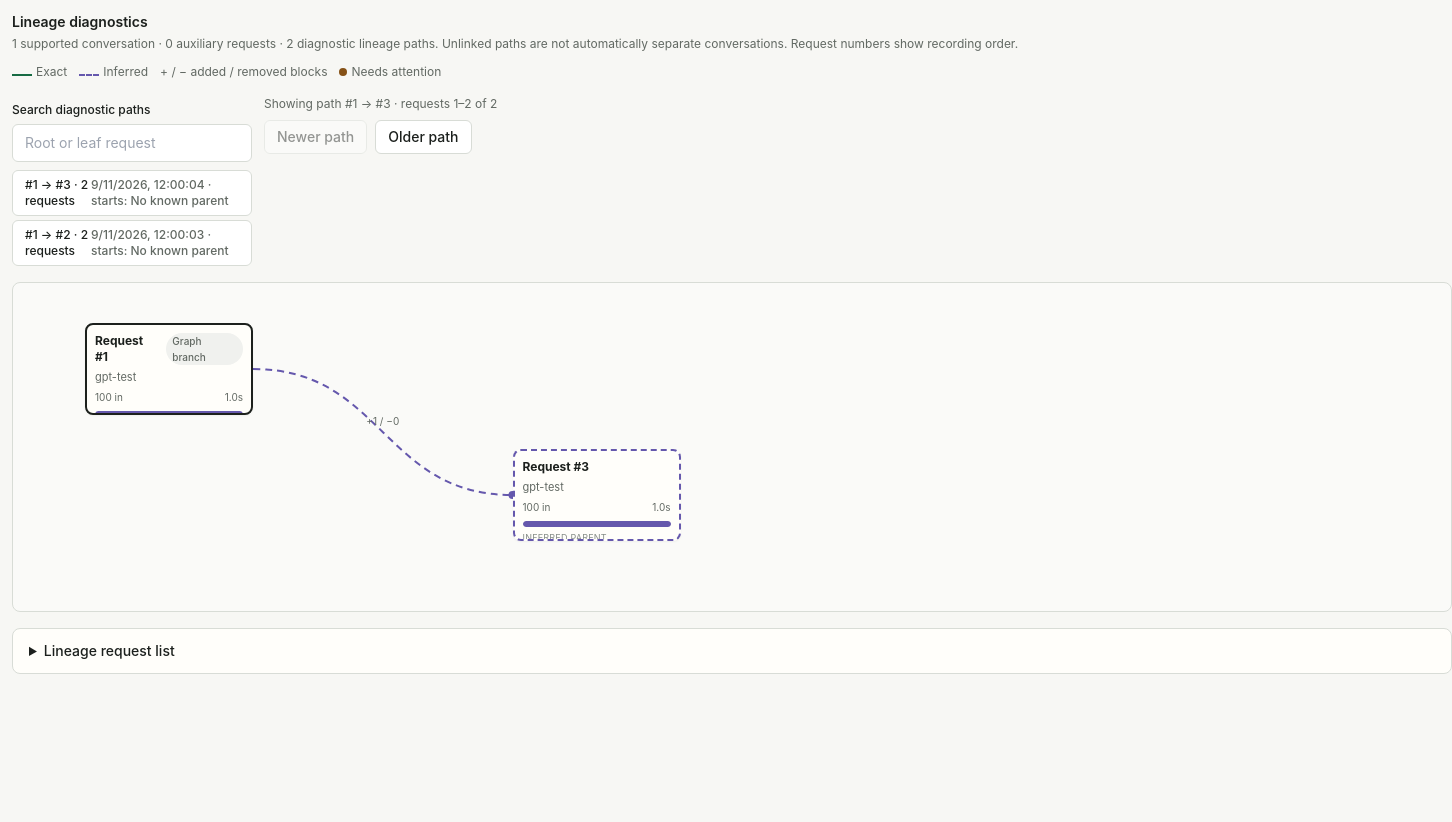
Test: SessionLineage › labels a structural branch without claiming a confirmed conversation split
The width and height of the screenshot is (1452, 822).
Click the button with aria-label "Request #1, No known parent" at (169, 369), box top-left (85, 323), bottom-right (253, 415)
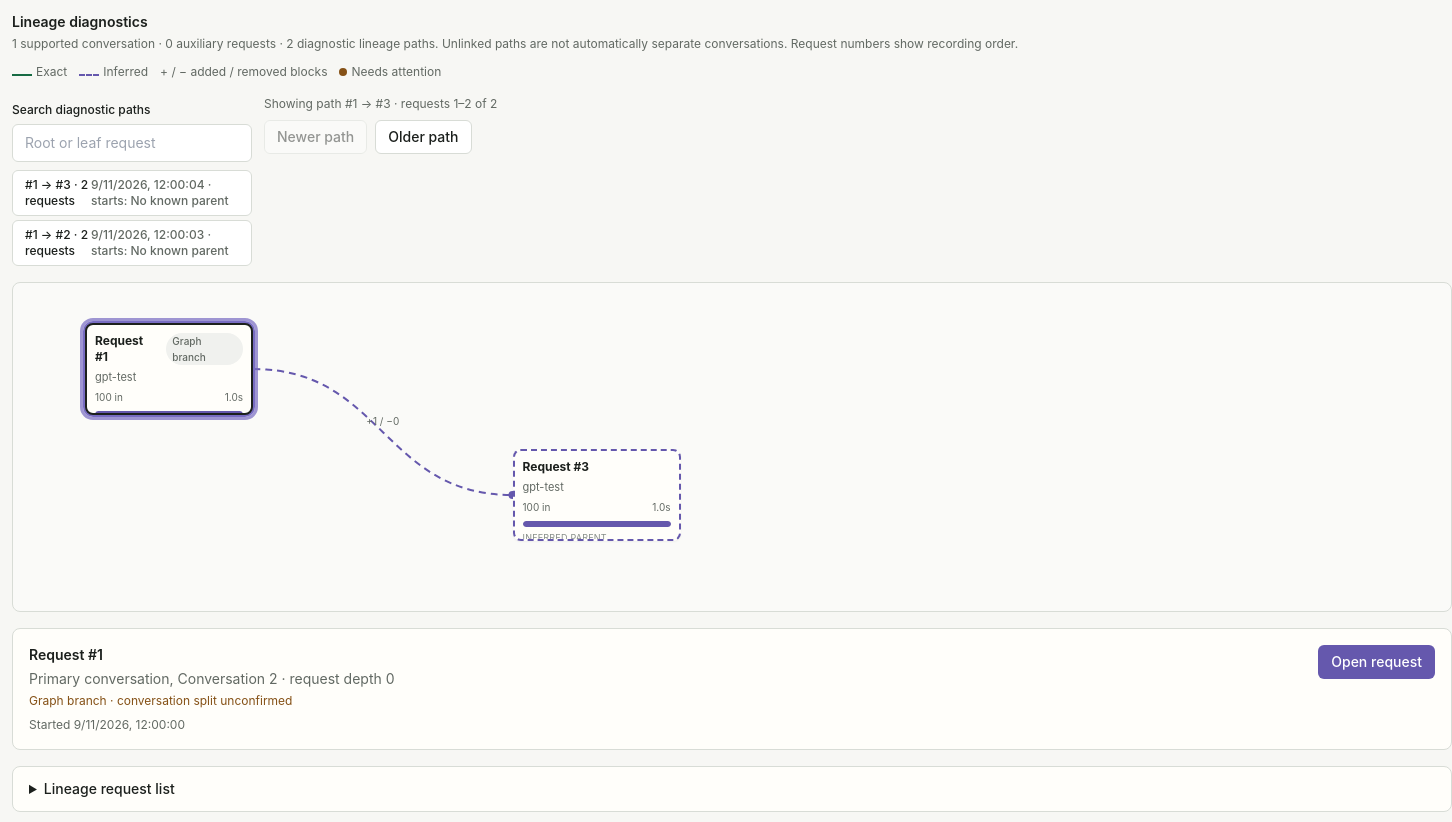
Expected: the icon named "Lineage graph" is shown, top-left (13, 283), bottom-right (913, 611)
Expected: the text "Graph branch · conversation split unconfirmed" is shown, top-left (29, 693), bottom-right (292, 708)
